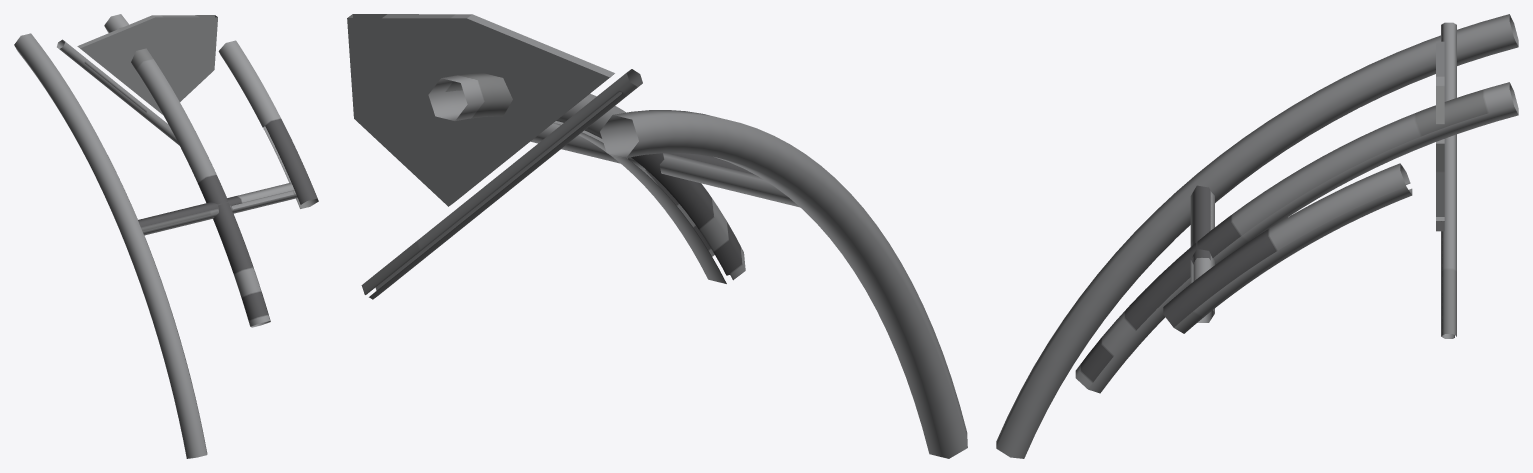
The picture shows the model from 3 angles, left to right: view 1: azimuth 30°, elevation 25°; view 2: azimuth 150°, elevation 25°; view 3: azimuth 270°, elevation 25°; orthographic projection. The views are drawn at different scales.
Bounding box in the file's own units: 1.09 × 1.72 × 1.8.
